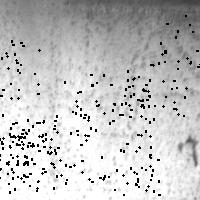pitted_surface: (4, 8, 195, 190), (125, 62, 185, 121), (64, 74, 121, 134), (99, 143, 158, 200), (90, 79, 149, 135), (45, 128, 104, 182), (0, 114, 56, 168), (0, 134, 53, 191), (0, 121, 44, 181), (0, 40, 38, 97), (160, 15, 200, 66)
